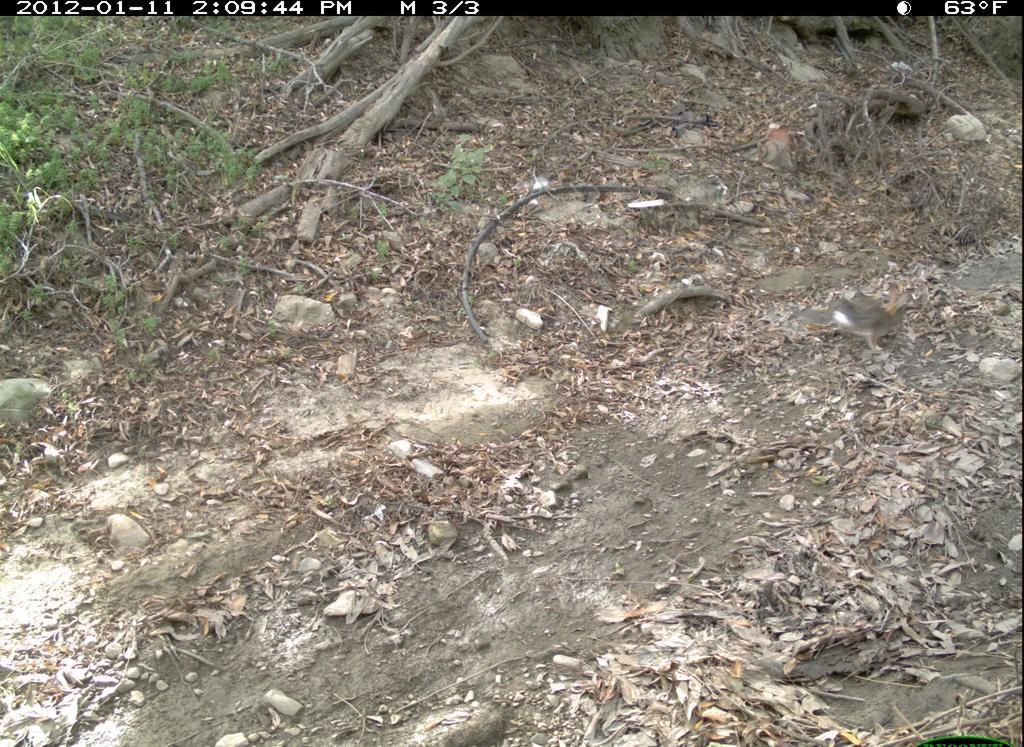rabbit: (802, 277, 916, 360)
